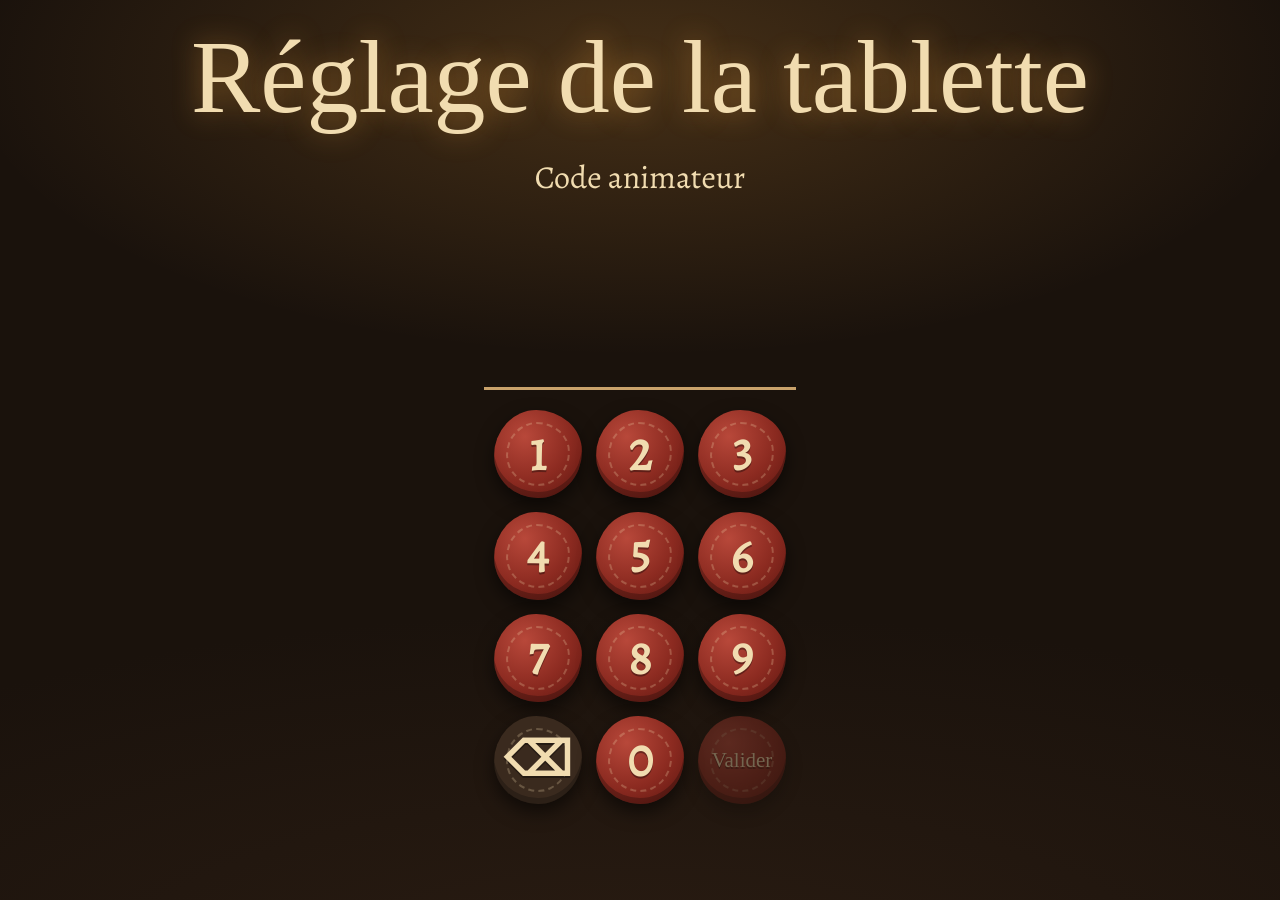
Test: TeamSetupScreen › refuses a wrong code
Click the button "1" at (538, 454), box [494,410,582,498]
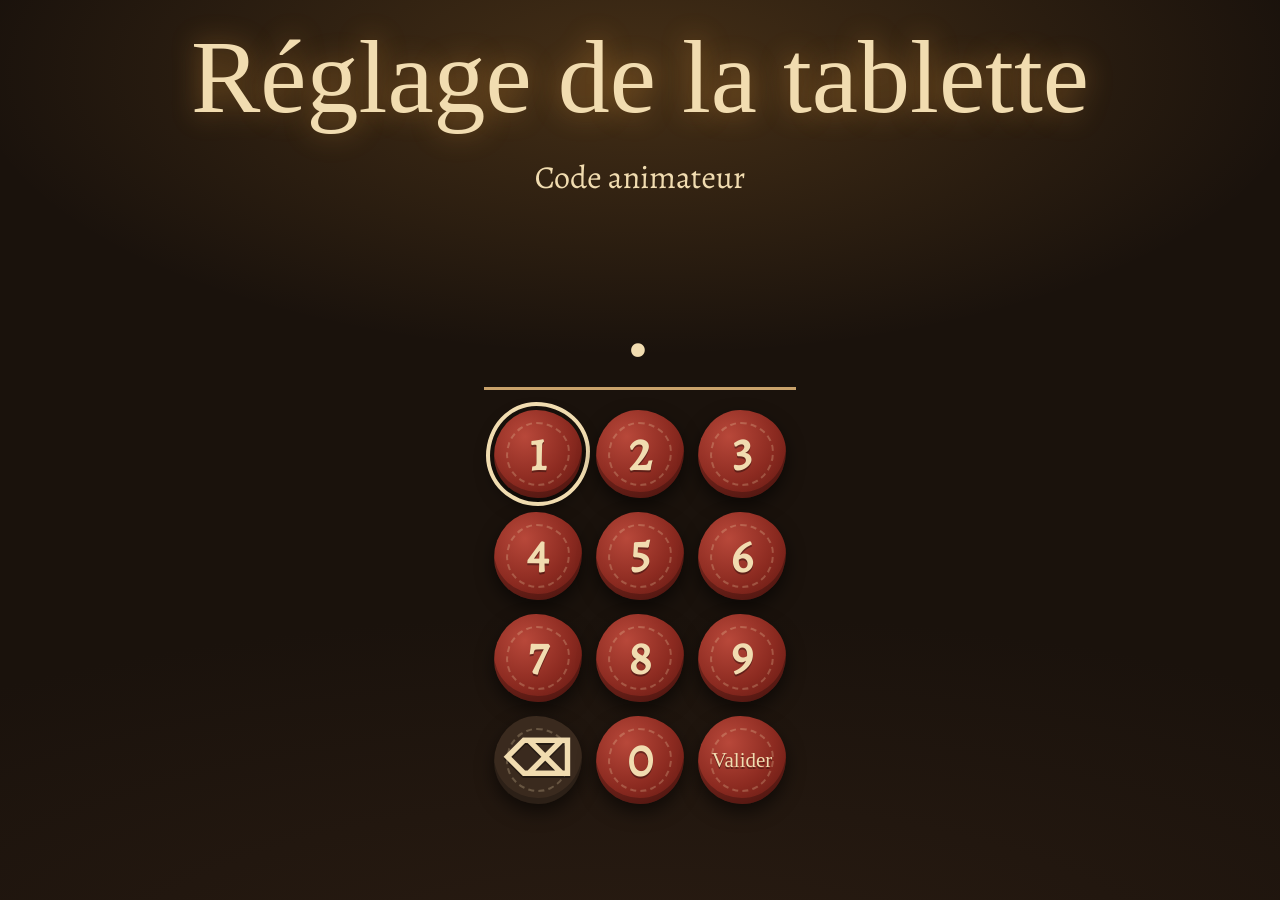
Click the button "1" at (538, 454), box [494,410,582,498]
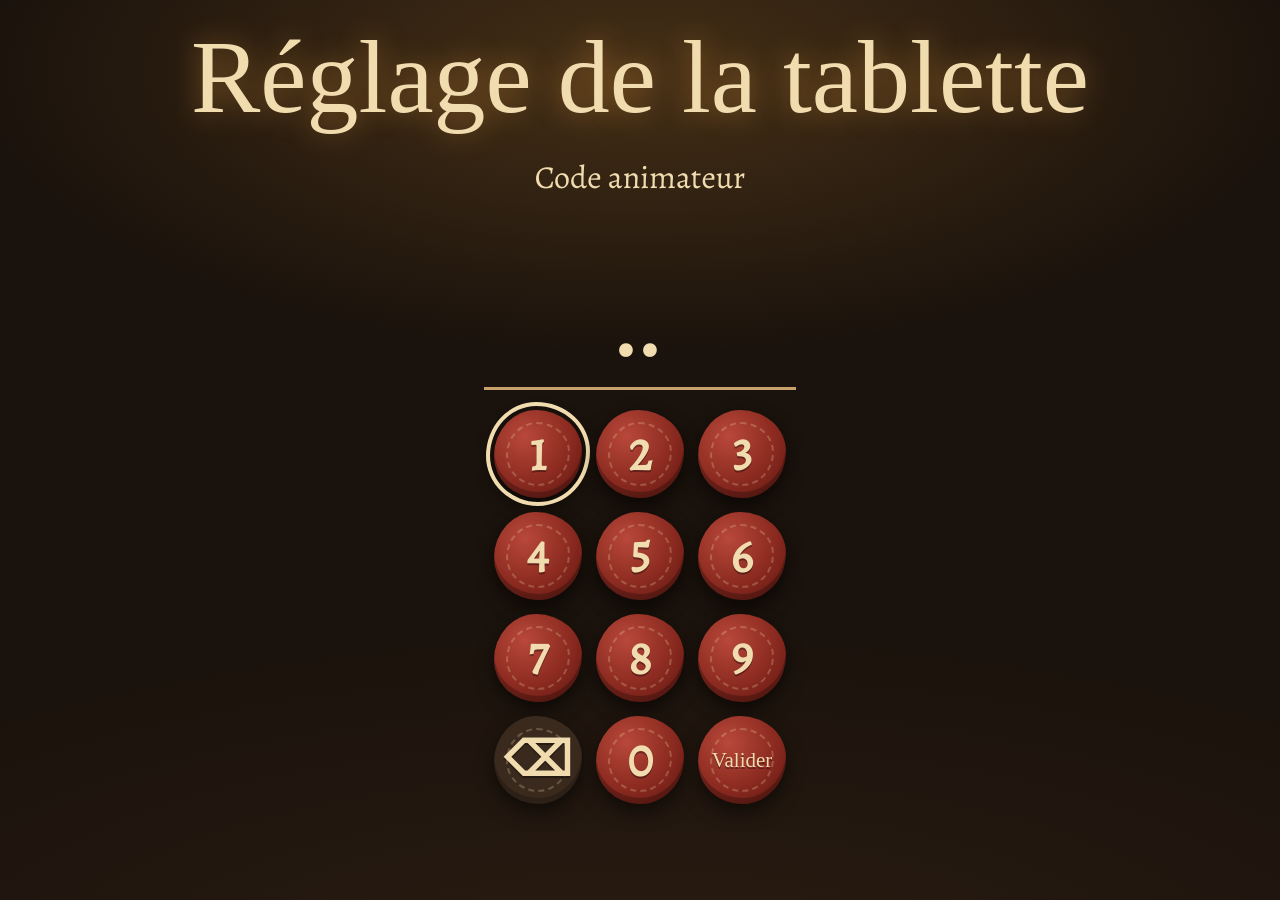
Click the button "1" at (538, 454), box [494,410,582,498]
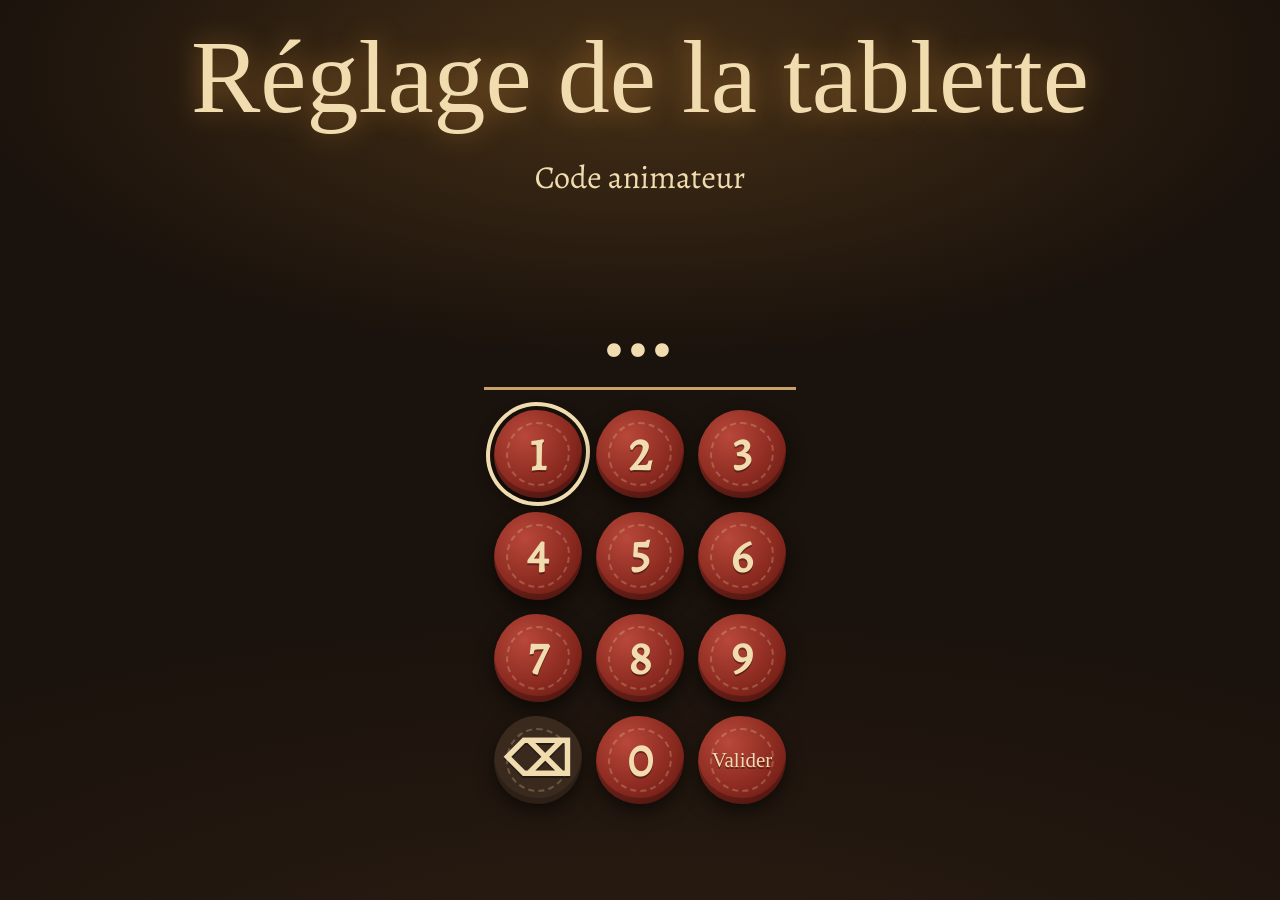
Click the button "1" at (538, 454), box [494,410,582,498]
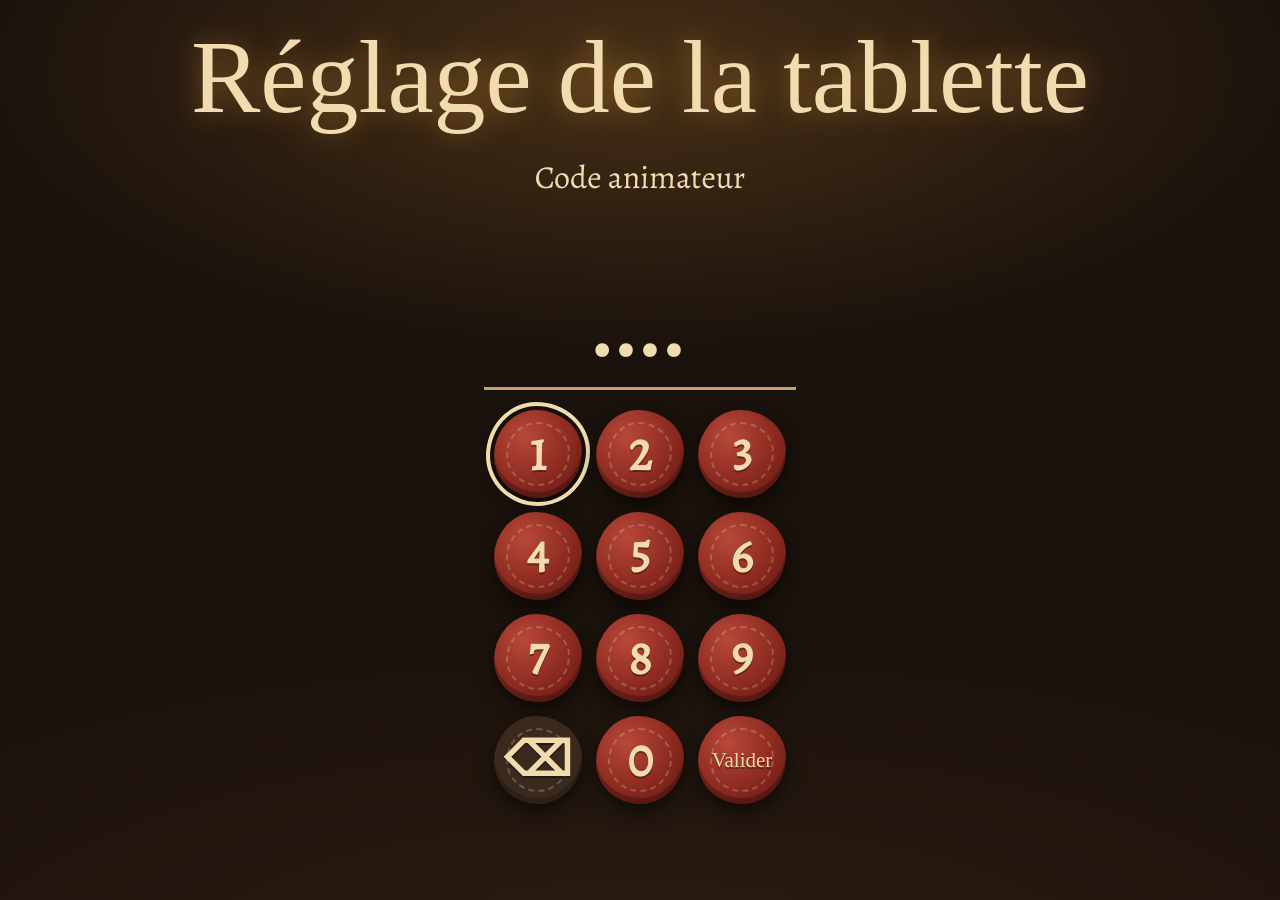
Click the button "Valider" at (742, 760), box [698,716,786,804]
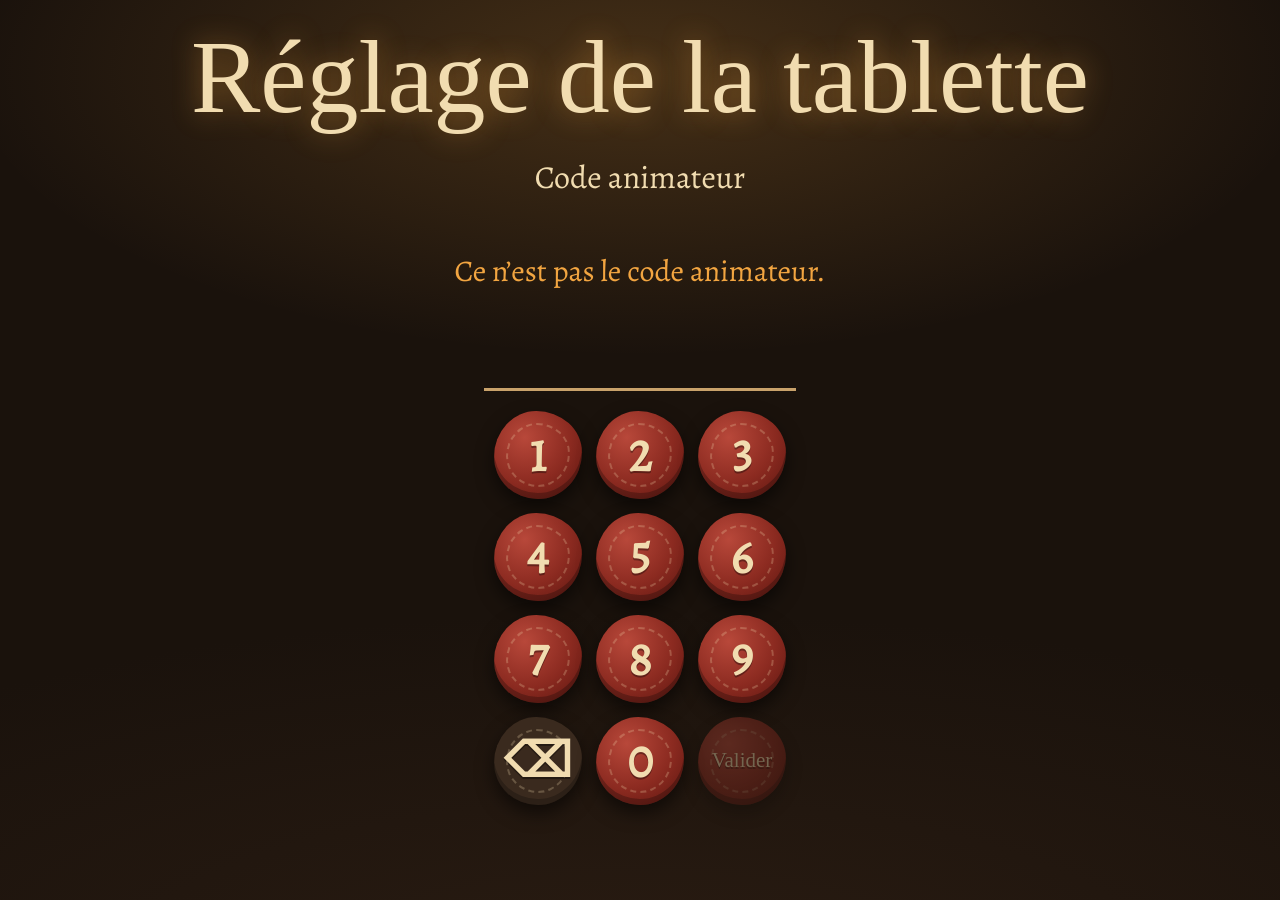
Expected: the message reads "Ce n’est pas le code animateur.", [454,251,826,291]
